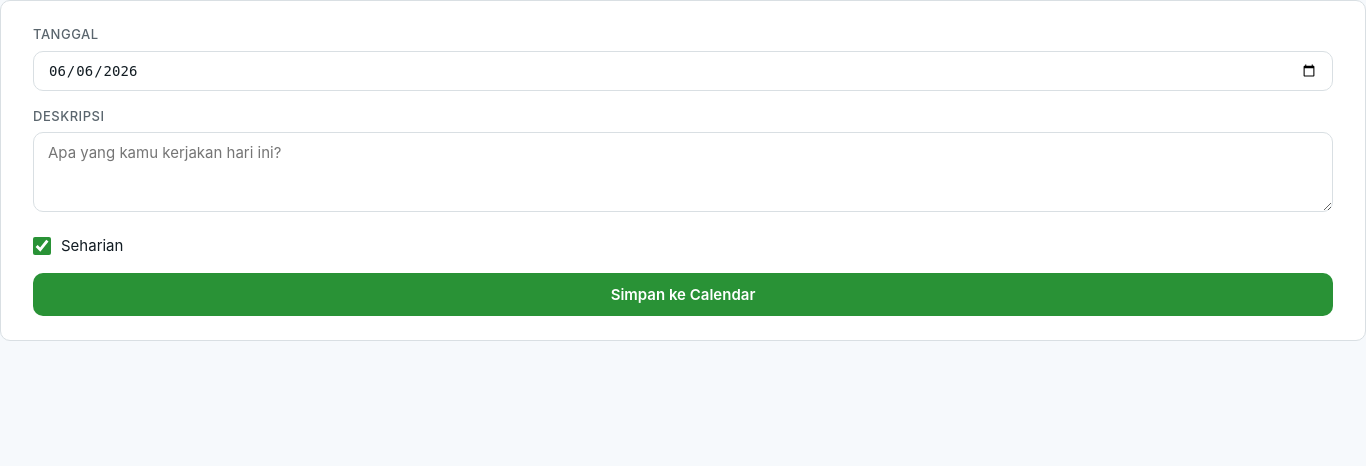
Test case: ActivityForm › shows time validation error when end time <= start time
The image size is (1366, 466).
Step 1. Type "Test activity" into the text box labelled "Deskripsi" → (683, 172), box 33,132 -> 1333,212
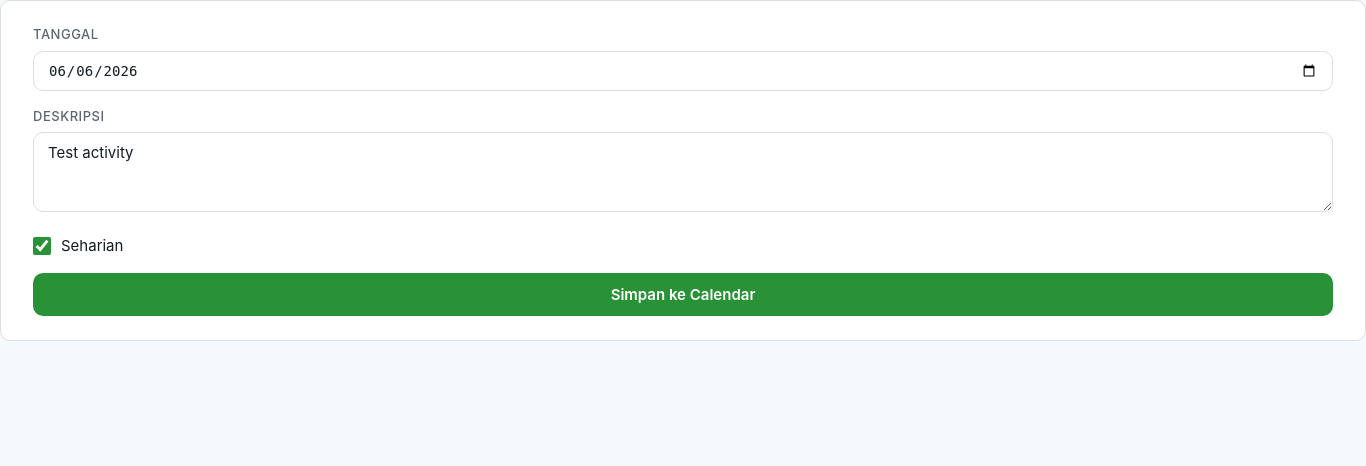
Uncheck all-day
Step 2. Click the checkbox labelled "Seharian" → (42, 246), box 33,237 -> 51,255
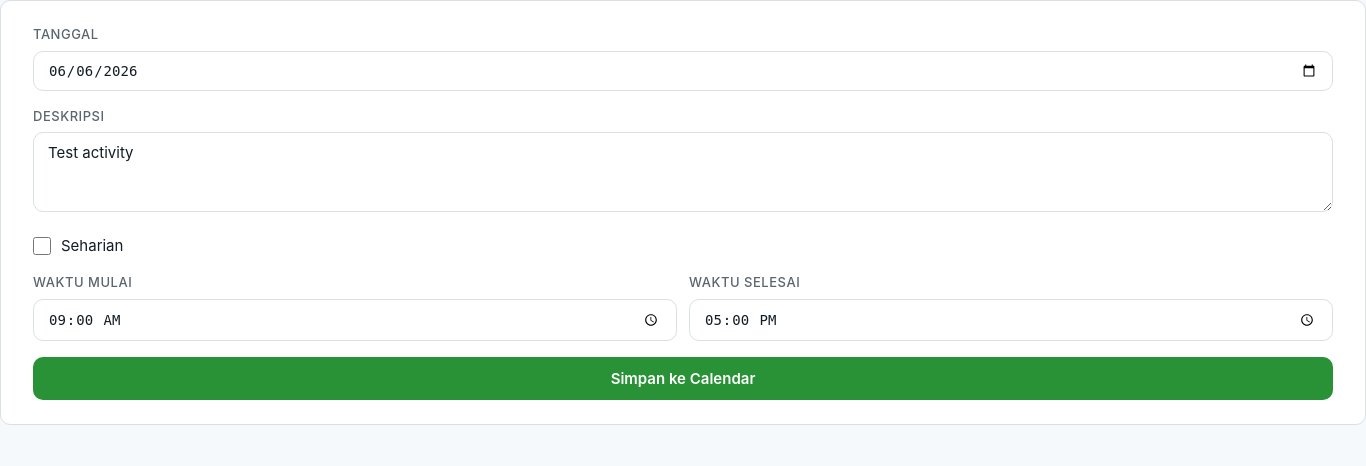
Set end time before start time
Step 3. Replace the text in the time field labelled "Waktu mulai" with "14:00" → (355, 320), box 33,298 -> 677,341
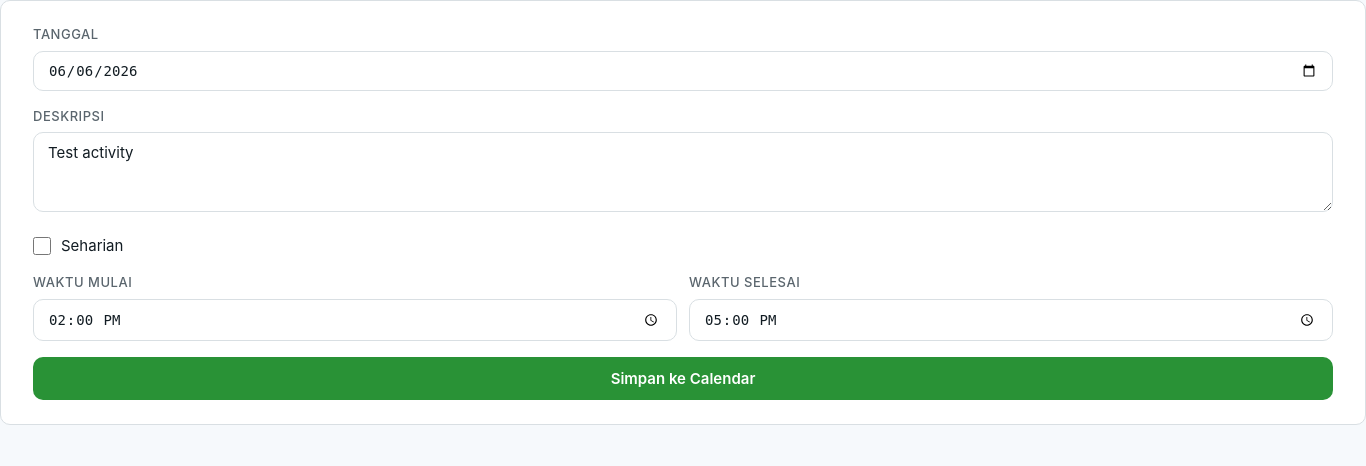
Step 4. Replace the text in the time field labelled "Waktu selesai" with "10:00" → (1011, 320), box 689,298 -> 1333,341
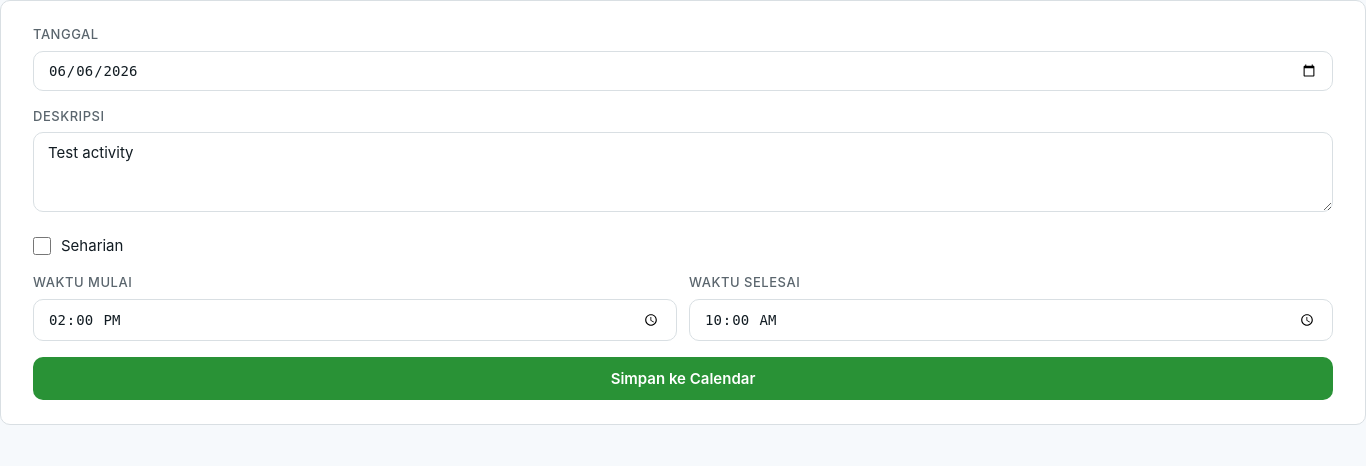
Step 5. Click the button with test id "submit-button" → (683, 379), box 33,357 -> 1333,400
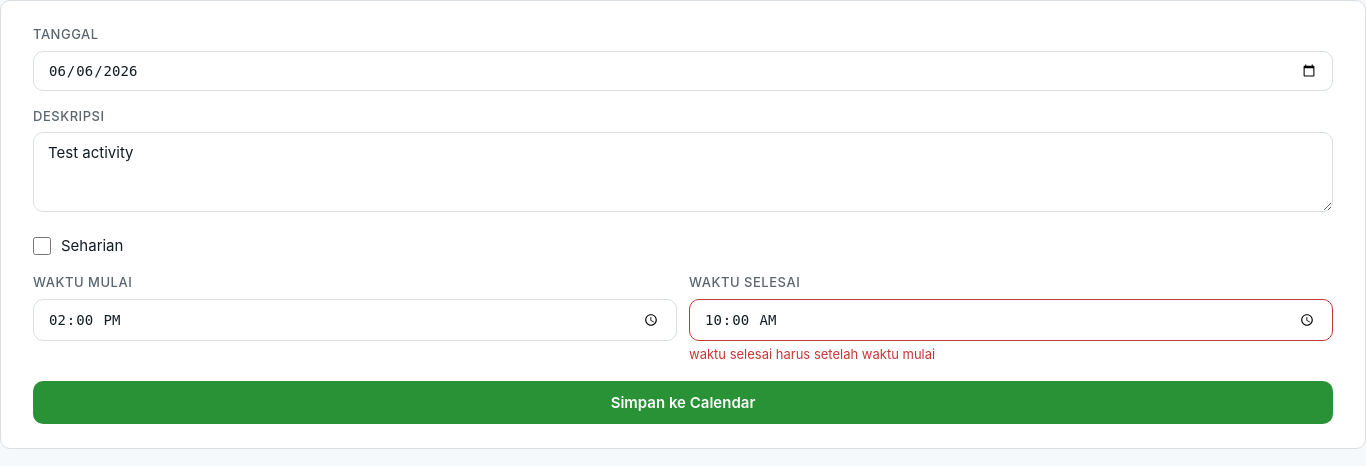
Check: the message with test id "error-time" reads "waktu selesai harus setelah waktu mulai", box 689,346 -> 935,362
